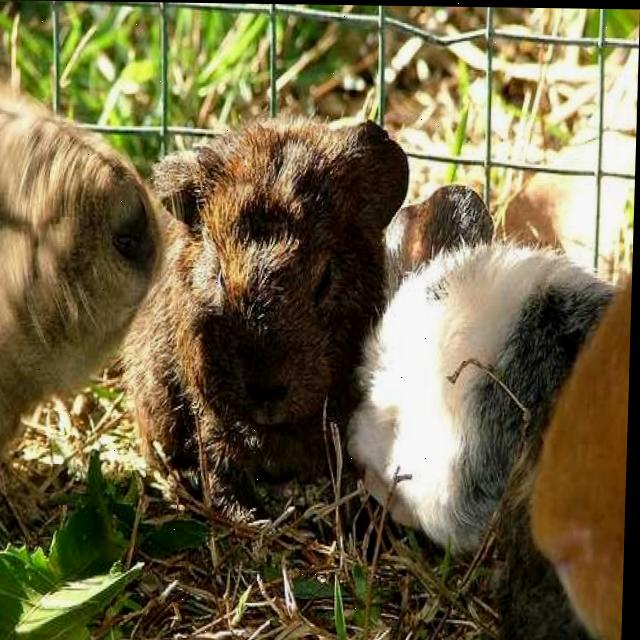guinea pig: (120, 114, 419, 522), (350, 239, 629, 566), (0, 92, 165, 501)
